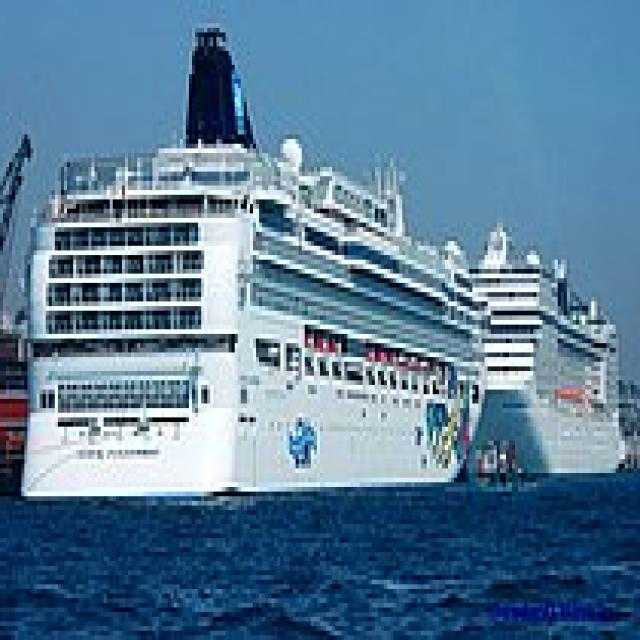Cruise: (18, 18, 497, 501), (442, 208, 628, 478)
